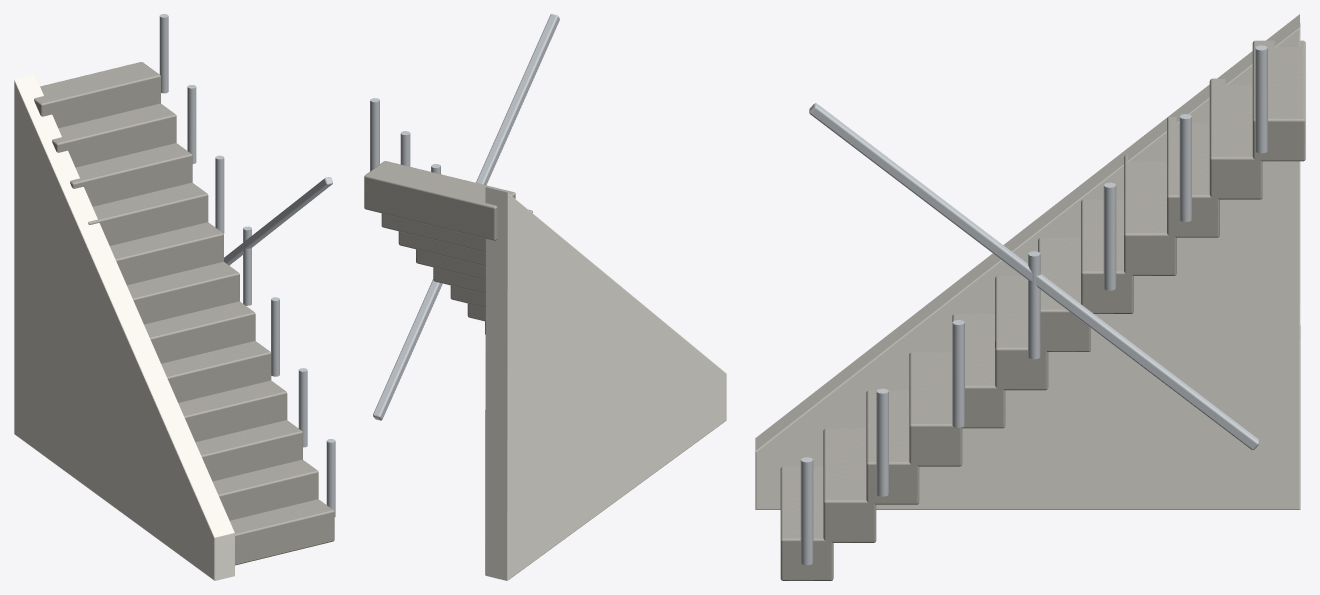
File: hero-shooter-harbour-payload-exterior-stair-flight-60526959__27700.glb
The picture shows the model from 3 angles, left to right: view 1: azimuth 30°, elevation 25°; view 2: azimuth 150°, elevation 25°; view 3: azimuth 270°, elevation 25°; orthographic projection. The views are drawn at different scales.
Parts seen in each view (by area): view 1: exterior-stair-flight; view 2: exterior-stair-flight; view 3: exterior-stair-flight.
Boxes of the visible parts, box(x1,y1,x2,y2) form: exterior-stair-flight: box(14, 14, 335, 580); exterior-stair-flight: box(364, 14, 726, 580); exterior-stair-flight: box(755, 14, 1305, 580).
Size of the model in its own units: 1.74 by 4.71 by 4.36.
3 materials, 1 textured.
